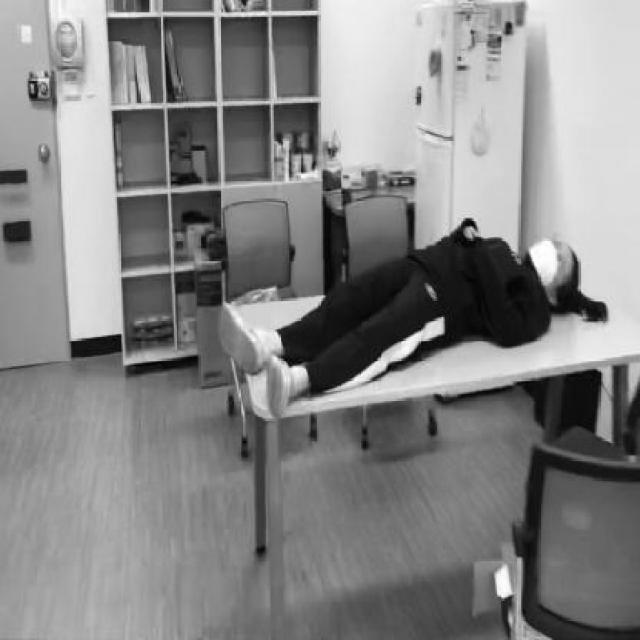person: (216, 201, 582, 416)
